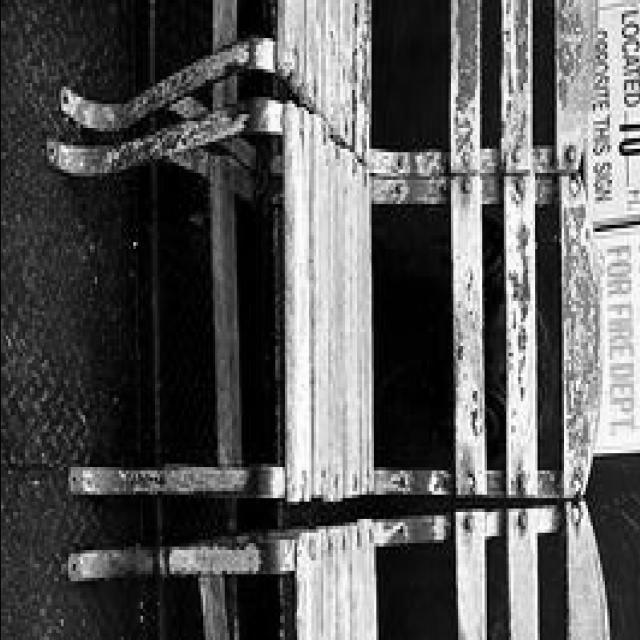chair: (38, 104, 611, 542), (50, 0, 612, 177), (60, 488, 620, 636)
